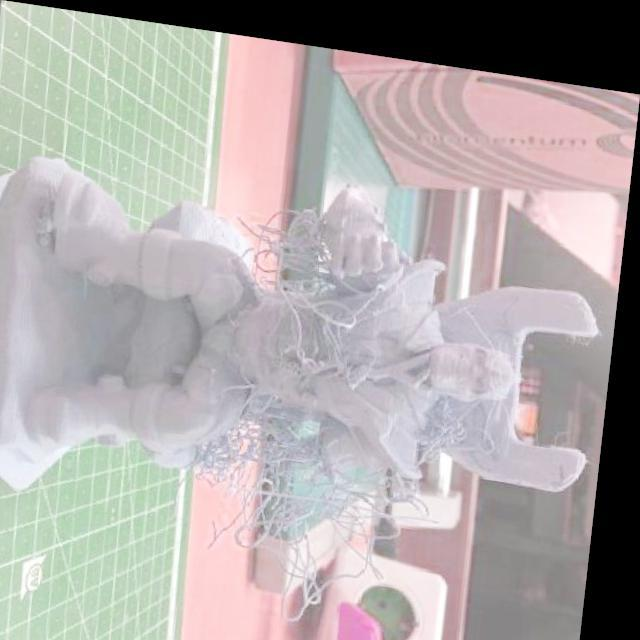spaghetti: (222, 182, 540, 445), (189, 404, 460, 630)
